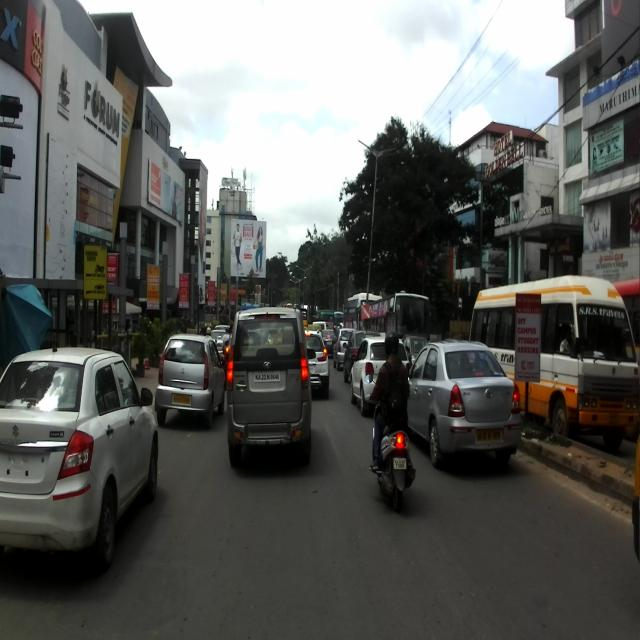Car_Mahindra: (226, 306, 316, 469)
Car_Maruti-Suzuki: (0, 342, 158, 565)
Car_TATA: (154, 332, 225, 432)
Car_Toyota: (405, 340, 520, 465)
mini-bus: (466, 274, 639, 450)
scooter: (372, 371, 414, 512)
